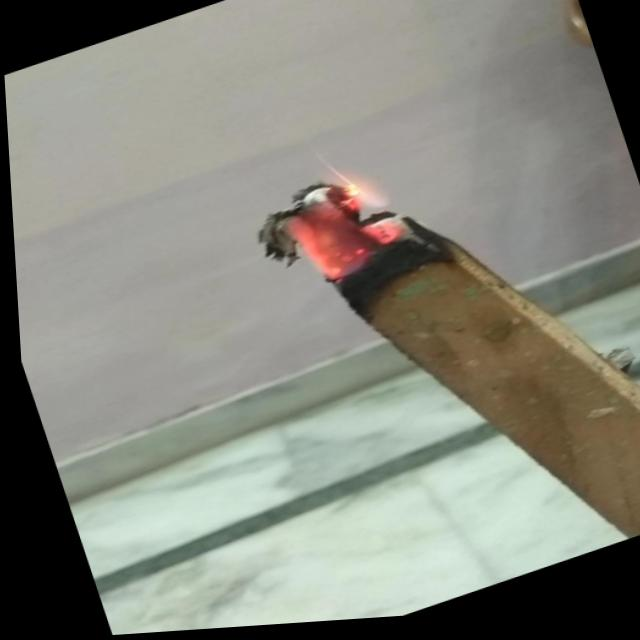fire: (266, 161, 406, 296)
